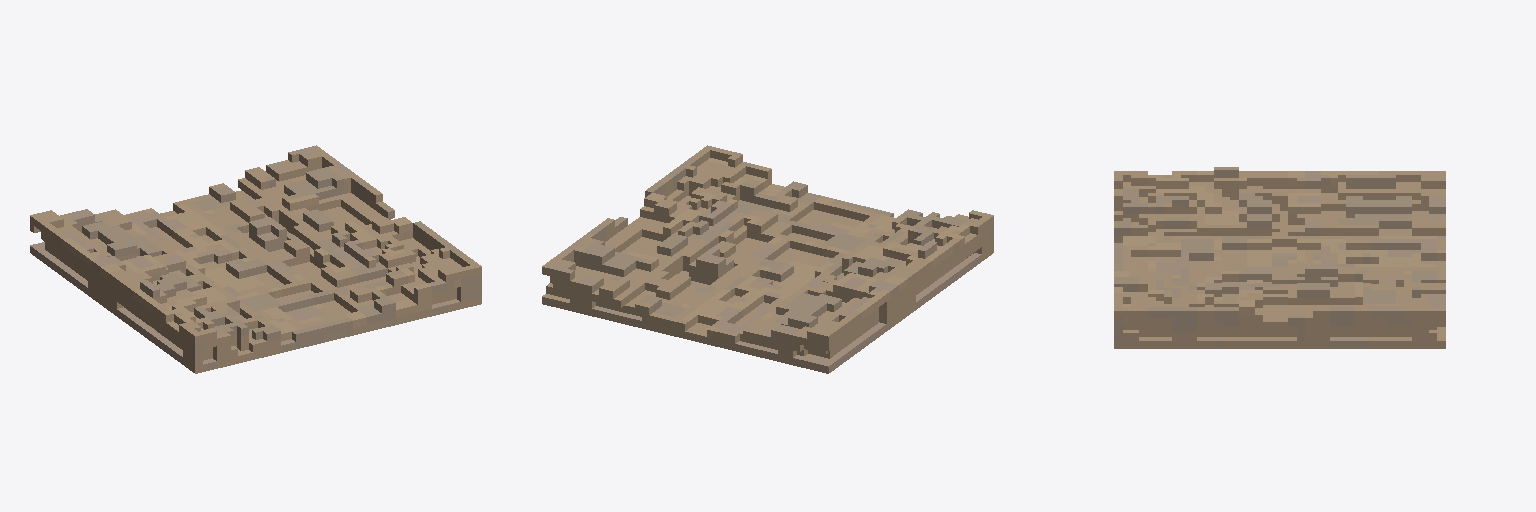
The picture shows the model from 3 angles: view 1: azimuth 30°, elevation 25°; view 2: azimuth 150°, elevation 25°; view 3: azimuth 270°, elevation 25°; orthographic projection.
Parts seen in each view (by area): view 1: object 1; view 2: object 1; view 3: object 1.
Part boxes in pixels (x1,y1,x2,y2): object 1: (30, 145, 481, 373); object 1: (542, 145, 993, 373); object 1: (1114, 167, 1445, 348).
Bounding box in the file's own units: 4 × 0.6 × 4.
1 materials, 1 textured.